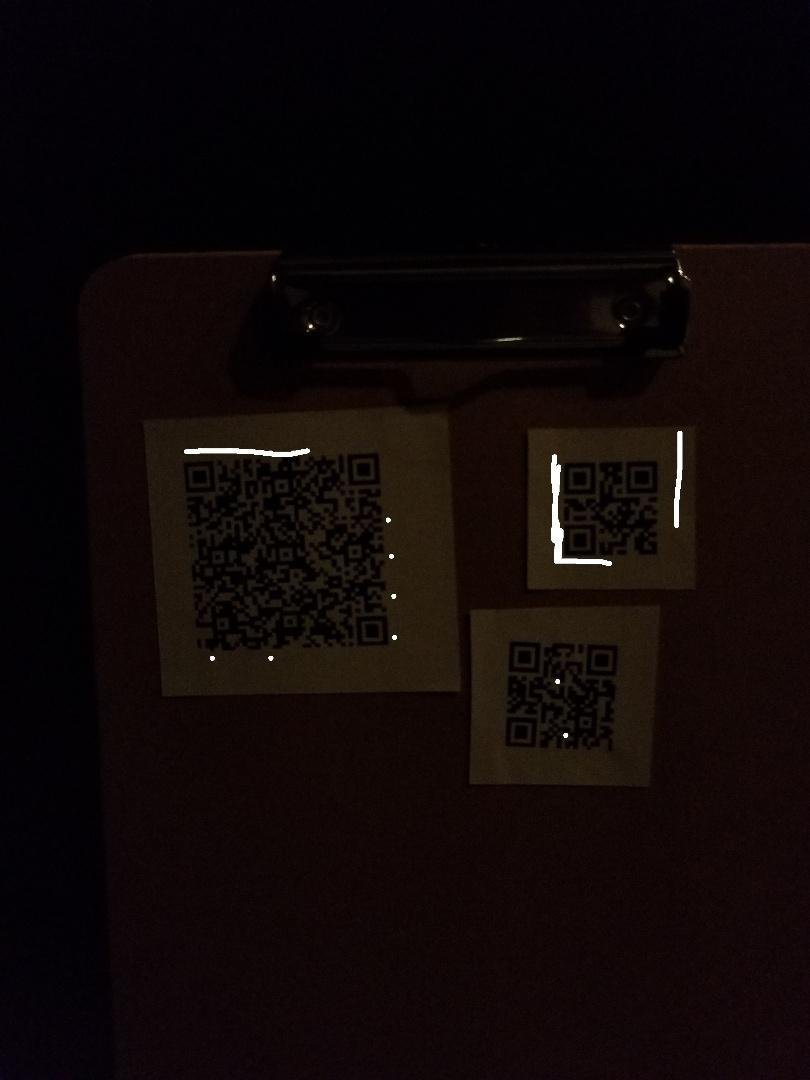Finder pattern: (342, 447, 385, 488), (621, 455, 663, 496), (581, 639, 623, 680), (500, 712, 541, 754), (504, 635, 546, 675), (176, 455, 220, 493), (353, 613, 392, 653), (561, 458, 599, 497), (559, 522, 598, 559)
